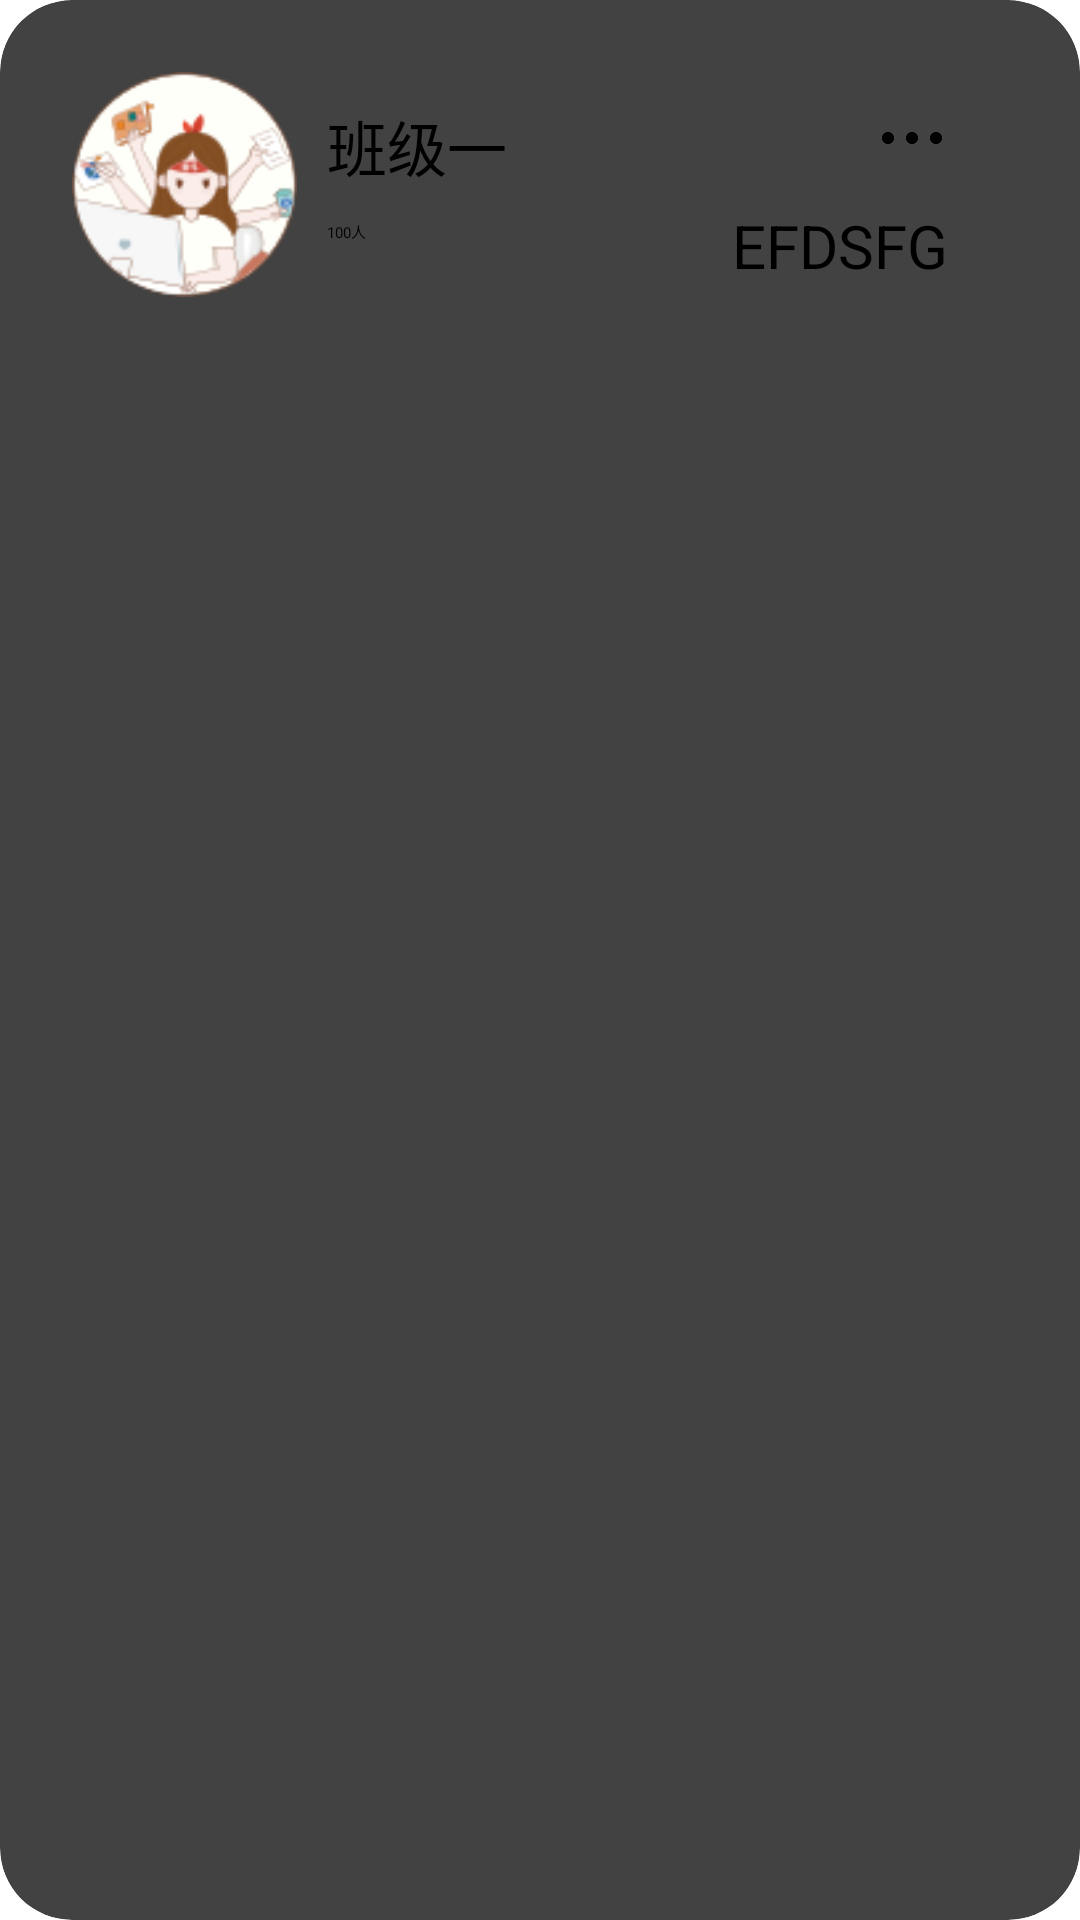

Screen size 1080 x 1920. Icon name, then its center in pixels as point (x, y):
hardwork: point (184, 184)
more: point (912, 138)
